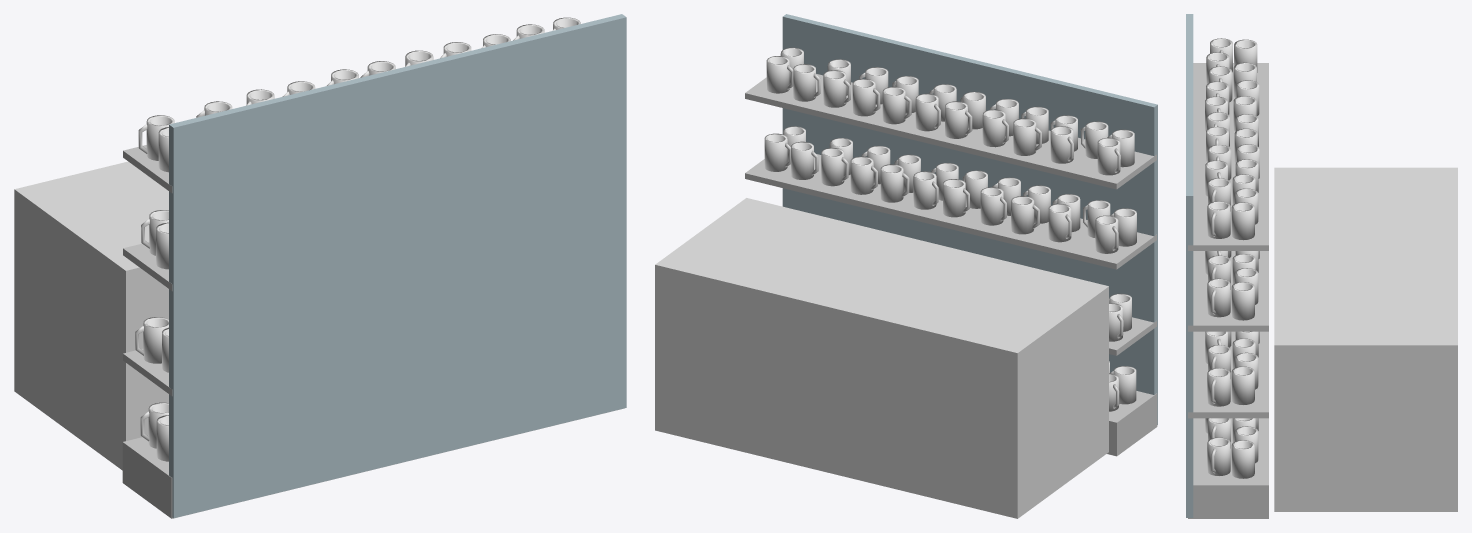
File: reol2.gltf
3 renders of one model, left to right at view 1: azimuth 30°, elevation 25°; view 2: azimuth 150°, elevation 25°; view 3: azimuth 270°, elevation 25°, orthographic. The views are drawn at different scales.
Parts seen in each view (by area): view 1: Cube, front.zone, Cube.004, Cylinder.111, Cube.002, Cube.003, Cube.001, Cylinder.155; view 2: front.zone, Cube, Cube.002, Cube.001, Cube.004, Cylinder.140, Cylinder.139, Cylinder.148, Cylinder.132, Cylinder.167, Cylinder.136, Cylinder.147 (+23 smaller); view 3: front.zone, Cube.001, Cube.004, Cube, Cube.003, Cube.002, Cylinder.132, Cylinder.088, Cylinder.131, Cylinder.175, Cylinder.067, Cylinder.064 (+31 smaller).
Part boxes in pixels (box(x1,y1,x2,y2)): Cube: box(169, 14, 626, 518); front.zone: box(14, 161, 168, 470); Cube.004: box(122, 408, 624, 518); Cylinder.111: box(143, 317, 168, 363); Cube.002: box(123, 242, 172, 290); Cube.003: box(123, 348, 172, 395); Cube.001: box(123, 145, 172, 192); Cylinder.155: box(146, 115, 174, 160); front.zone: box(655, 198, 1108, 518); Cube: box(782, 14, 1157, 424); Cube.002: box(745, 154, 1156, 269); Cube.001: box(745, 74, 1156, 189); Cube.004: box(1107, 391, 1157, 456); Cylinder.140: box(880, 164, 903, 202); Cylinder.139: box(850, 156, 873, 194); Cylinder.148: box(1011, 196, 1034, 234); Cylinder.132: box(764, 133, 787, 171); Cylinder.167: box(882, 86, 905, 124); Cylinder.136: box(821, 148, 844, 186); Cylinder.147: box(980, 187, 1003, 225); front.zone: box(1274, 167, 1457, 511); Cube.001: box(1188, 63, 1268, 250); Cube.004: box(1188, 418, 1268, 518); Cube: box(1186, 14, 1193, 517); Cube.003: box(1188, 331, 1268, 418); Cube.002: box(1188, 251, 1268, 331); Cylinder.132: box(1231, 282, 1254, 320); Cylinder.088: box(1231, 440, 1254, 478); Cylinder.131: box(1231, 366, 1254, 404); Cylinder.175: box(1231, 202, 1254, 240); Cylinder.067: box(1207, 437, 1230, 475); Cylinder.064: box(1207, 368, 1230, 406).
Size of the model in its own units: 4.7 by 3.88 by 2.96.
